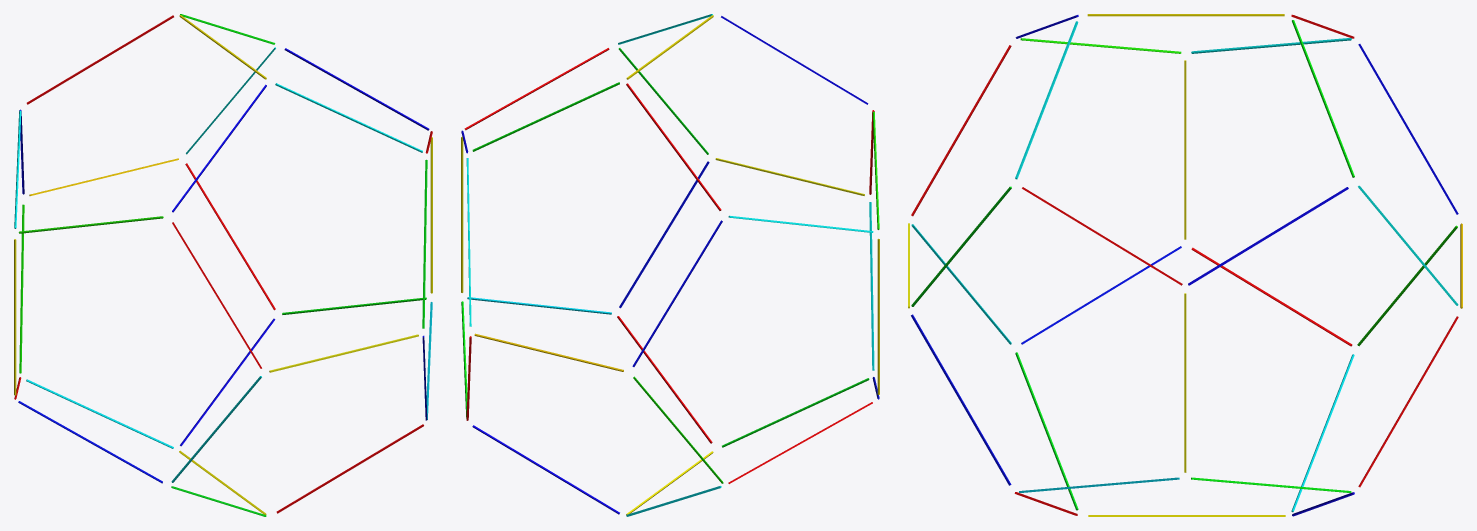
The model's file is dodecahedron_edges.fbx.
The picture shows the model from 3 angles, left to right: view 1: azimuth 30°, elevation 25°; view 2: azimuth 150°, elevation 25°; view 3: azimuth 270°, elevation 25°; orthographic projection. The views are drawn at different scales.
Parts seen in each view (by area): view 1: Cube.011, Cube.003, Cube.015, Cube.024, Cube.025, Cube.010; view 2: Cube.014, Cube.019, Cube.007, Cube.023, Cube.016; view 3: Cube.014.
Part boxes in pixels (left/top/right/bottom): Cube.011: left=422, top=159, right=427, bottom=328; Cube.003: left=19, top=204, right=24, bottom=373; Cube.015: left=276, top=424, right=423, bottom=513; Cube.024: left=26, top=15, right=173, bottom=104; Cube.025: left=284, top=48, right=429, bottom=130; Cube.010: left=275, top=83, right=422, bottom=152; Cube.014: left=619, top=161, right=709, bottom=308; Cube.019: left=472, top=425, right=619, bottom=514; Cube.007: left=869, top=202, right=874, bottom=370; Cube.023: left=472, top=82, right=619, bottom=151; Cube.016: left=722, top=378, right=869, bottom=447; Cube.014: left=911, top=314, right=1011, bottom=485.
Bounding box in the file's own units: 177 × 177 × 177.
